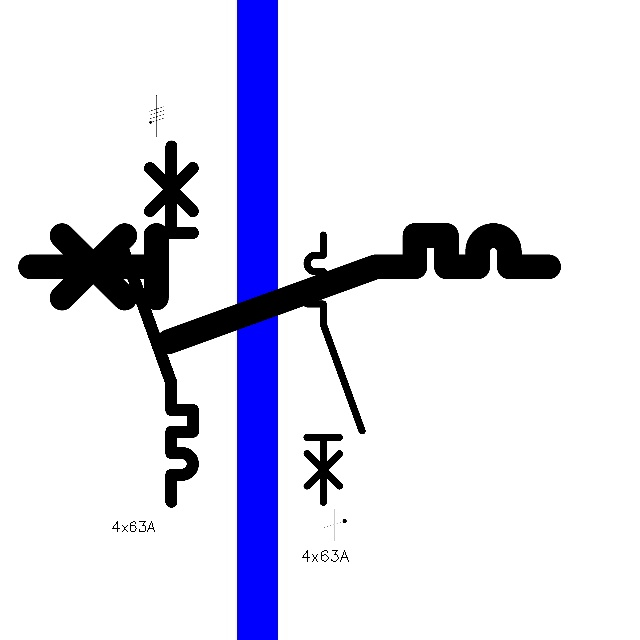interruptor_termomagnetico: (17, 222, 562, 355), (111, 137, 202, 511), (300, 228, 368, 509)
